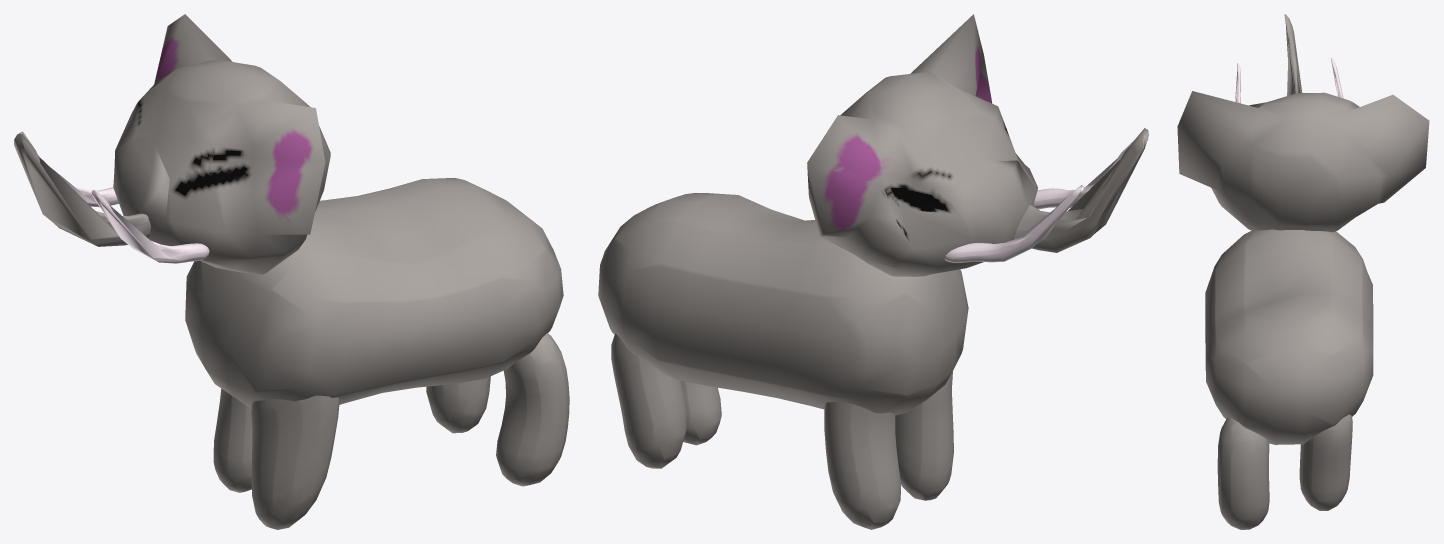
File: slon.glb
3 renders of one model, left to right at view 1: azimuth 30°, elevation 25°; view 2: azimuth 150°, elevation 25°; view 3: azimuth 270°, elevation 25°, orthographic. The views are drawn at different scales.
Visible parts, largest first — view 1: Mball.001, Mball.002, Mball.004, Mball.007, Mball.003, Mball.005, Mball.006, Mball.008; view 2: Mball.001, Mball.002, Mball.005, Mball.006, Mball.004, Mball.003, Mball.009, Mball.007, Mball.008; view 3: Mball.001, Mball.002, Mball.007, Mball.006, Mball.003.
Boxes of the visible parts, x1,y1,x2,y2 form: Mball.001: (185,178,563,408); Mball.002: (113,14,330,274); Mball.004: (251,395,339,529); Mball.007: (496,333,569,486); Mball.003: (14,131,150,246); Mball.005: (213,388,252,492); Mball.006: (426,376,490,433); Mball.008: (91,189,209,263); Mball.001: (598,193,968,415); Mball.002: (807,14,1037,276); Mball.005: (824,402,900,529); Mball.006: (611,333,686,468); Mball.004: (895,371,953,500); Mball.003: (1013,128,1148,252); Mball.009: (944,185,1084,262); Mball.007: (680,381,721,445); Mball.008: (1033,141,1133,209); Mball.001: (1205,229,1373,444); Mball.002: (1177,91,1429,232); Mball.007: (1217,418,1269,529); Mball.006: (1299,414,1352,510); Mball.003: (1284,14,1302,95).
Size of the model in its own units: 6.32 by 5.22 by 3.43.
9 materials, 9 textured.
